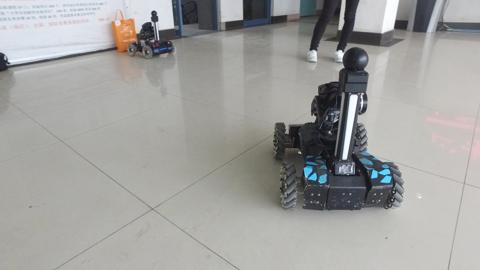bag: (110, 7, 138, 54)
chariot: (271, 45, 405, 212), (127, 9, 175, 58)
